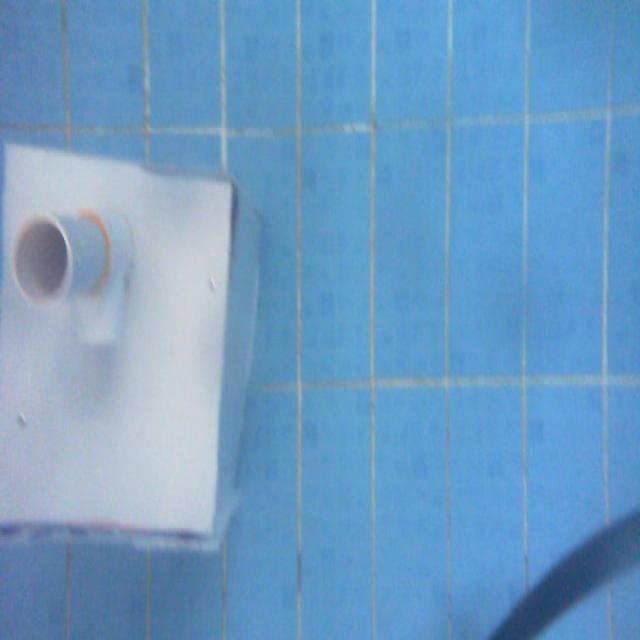Cube: (0, 133, 262, 546)
